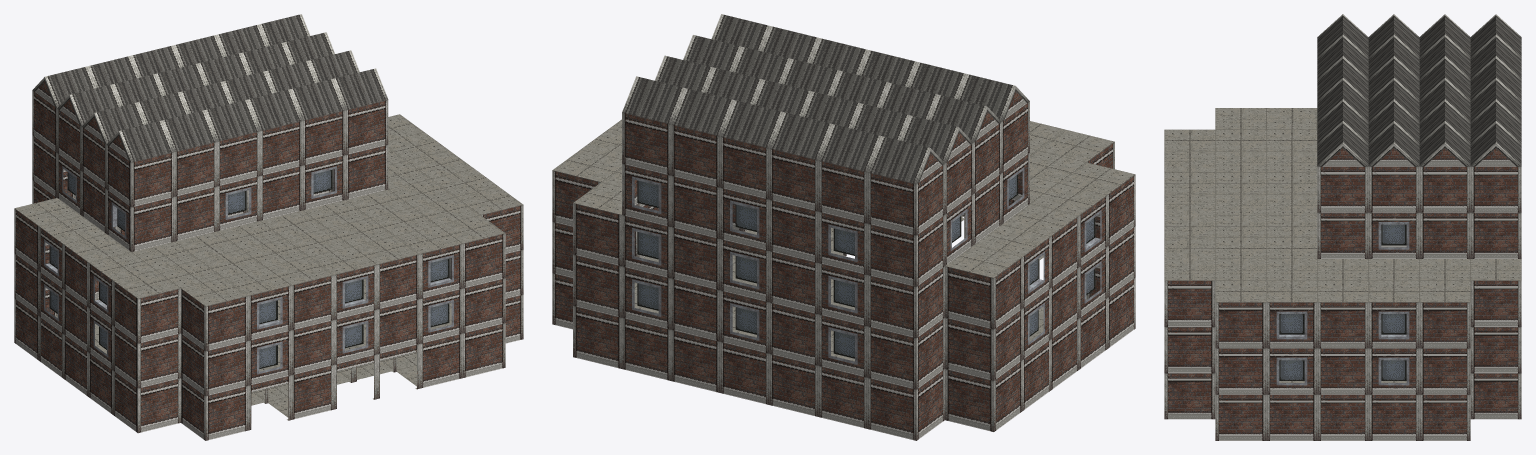
File: block-west.obj
The picture shows the model from 3 angles, left to right: view 1: azimuth 30°, elevation 25°; view 2: azimuth 150°, elevation 25°; view 3: azimuth 270°, elevation 25°; orthographic projection. The views are drawn at different scales.
Parts seen in each view (by area): view 1: block-west; view 2: block-west; view 3: block-west.
Part boxes in pixels (x1,y1,x2,y2): block-west: (14, 14, 523, 440); block-west: (552, 14, 1135, 440); block-west: (1164, 14, 1521, 440).
Bounding box in the file's own units: 12.6 × 7.7 × 9.8.
